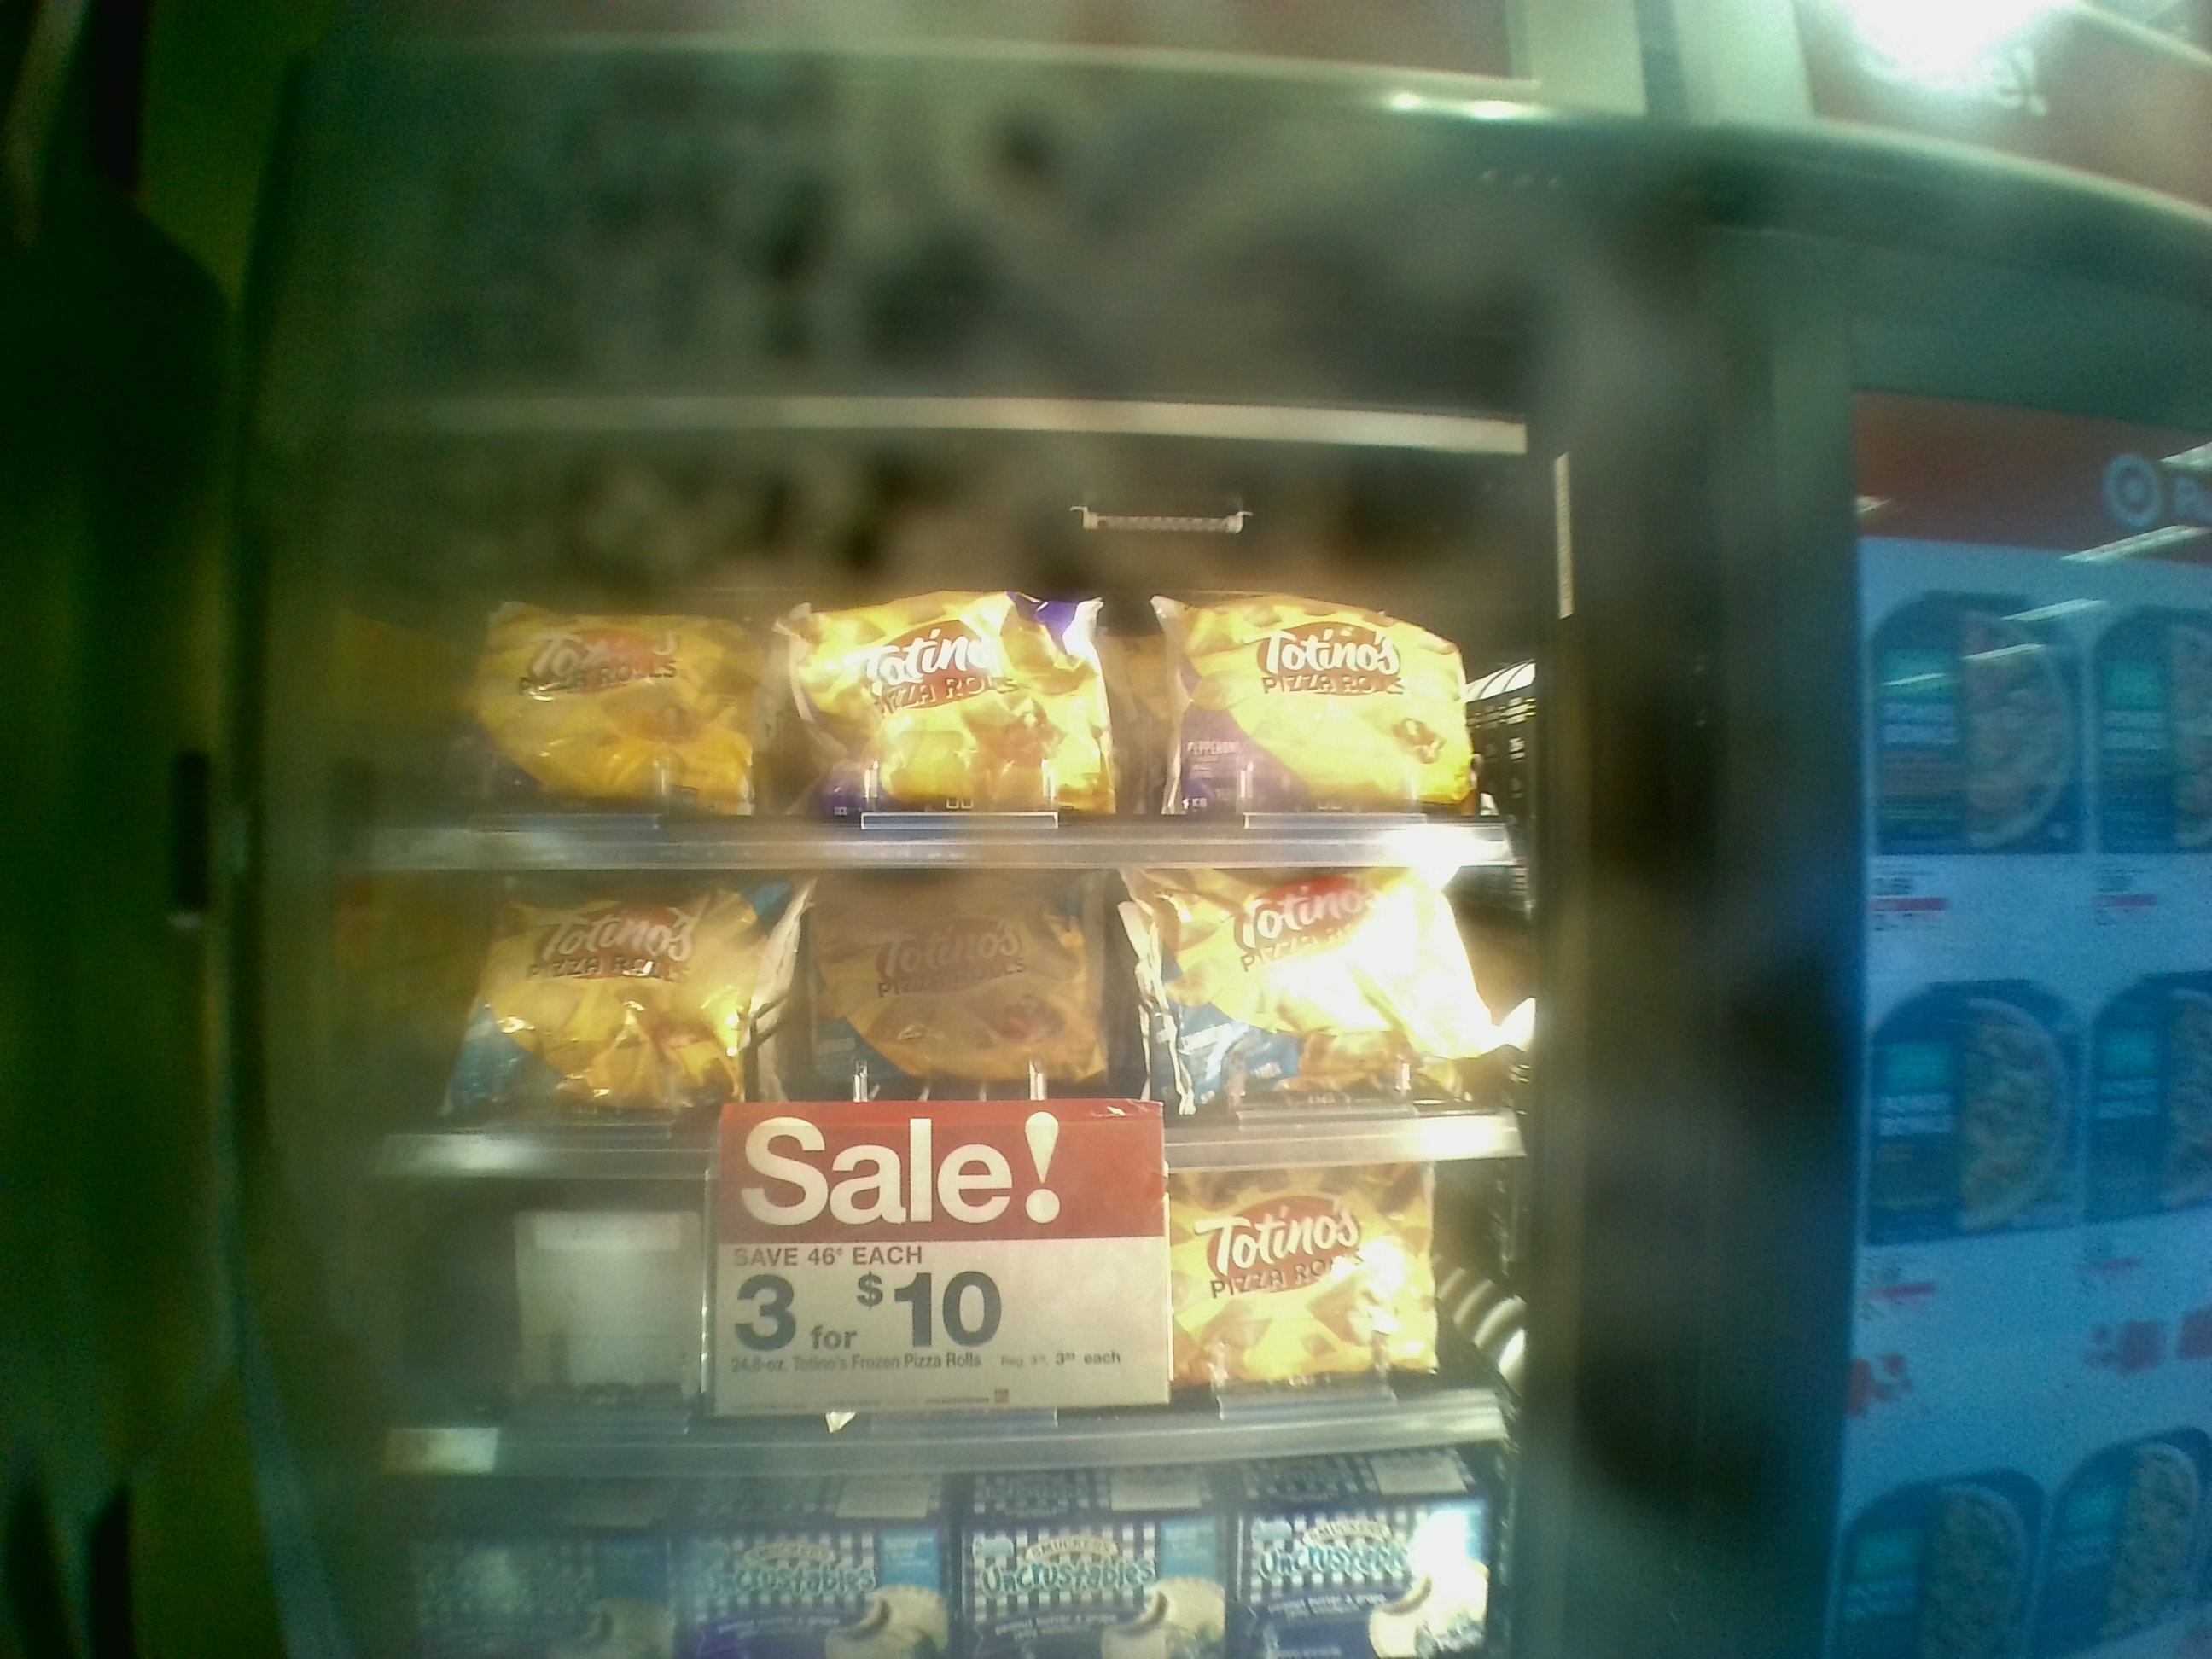shelf: (286, 1140, 1522, 1452), (329, 856, 1522, 1157)
